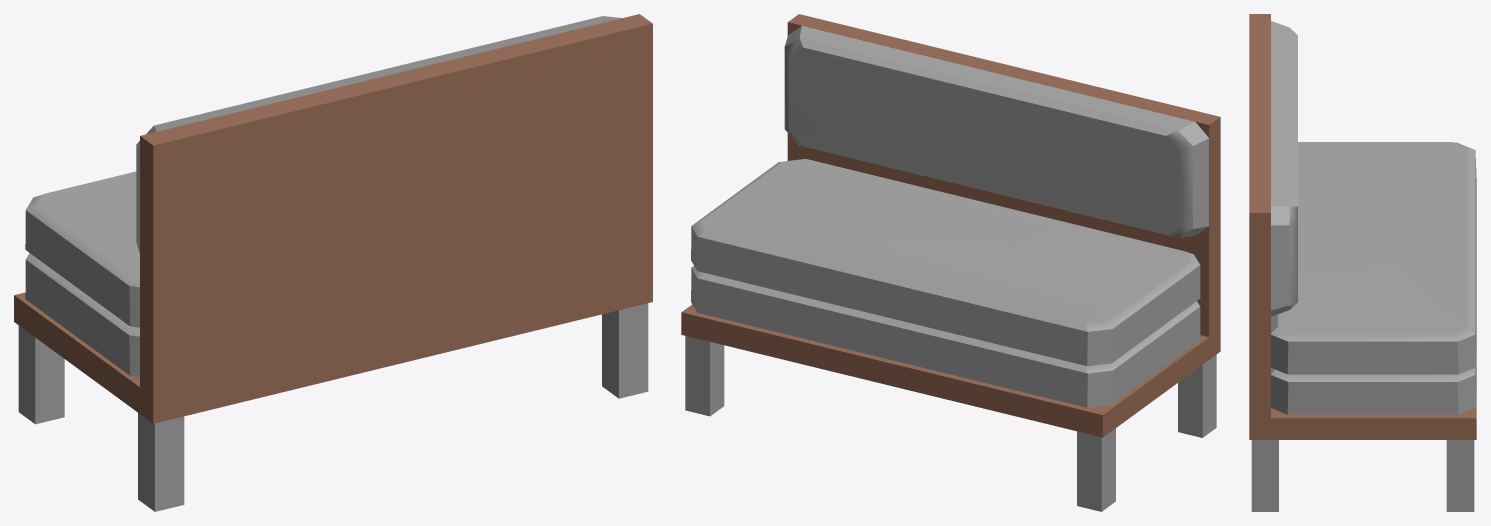
The model's file is fbx_restaurant_chair3.fbx.
The picture shows the model from 3 angles, left to right: view 1: azimuth 30°, elevation 25°; view 2: azimuth 150°, elevation 25°; view 3: azimuth 270°, elevation 25°; orthographic projection. The views are drawn at different scales.
Visible parts, largest first — view 1: fbx_restaurant_chair3; view 2: fbx_restaurant_chair3; view 3: fbx_restaurant_chair3.
Part boxes in pixels (left/top/right/bottom): fbx_restaurant_chair3: left=14, top=14, right=652, bottom=511; fbx_restaurant_chair3: left=681, top=14, right=1220, bottom=511; fbx_restaurant_chair3: left=1249, top=14, right=1476, bottom=511.
Bounding box in the file's own units: 2.13 × 1.5 × 1.03.
2 materials, 1 textured.
